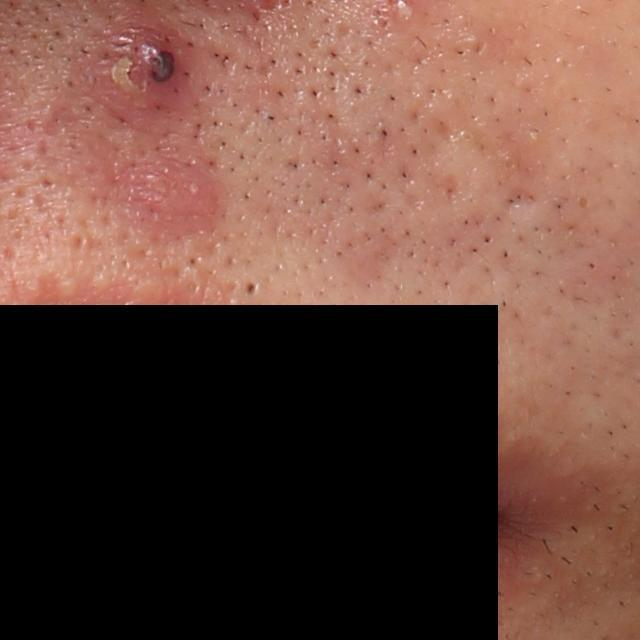atrophic_scar: (468, 123, 555, 188), (502, 182, 542, 217)
papule: (122, 135, 227, 244), (95, 16, 202, 120)
